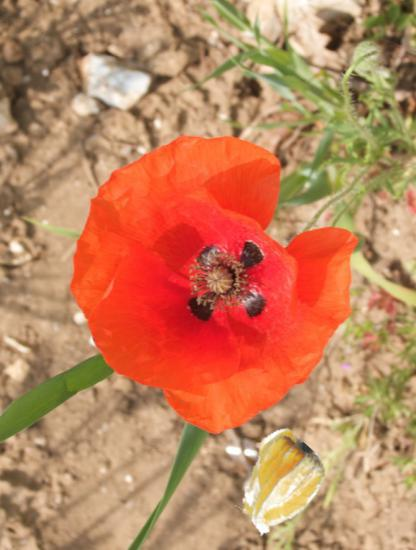Physalis: (226, 434, 325, 533)
